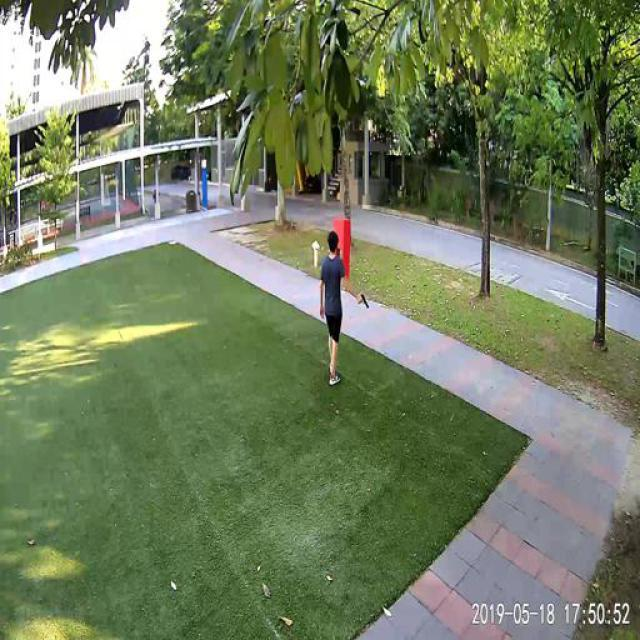Gun: (358, 292, 368, 306)
